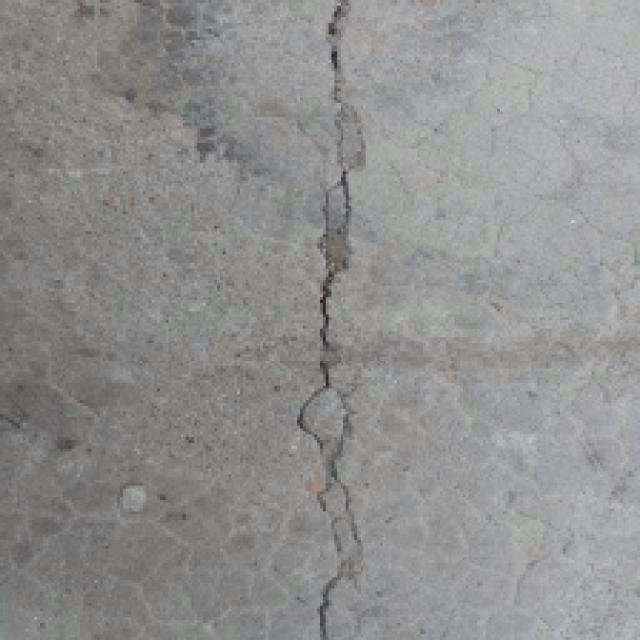crack: (286, 0, 374, 640)
